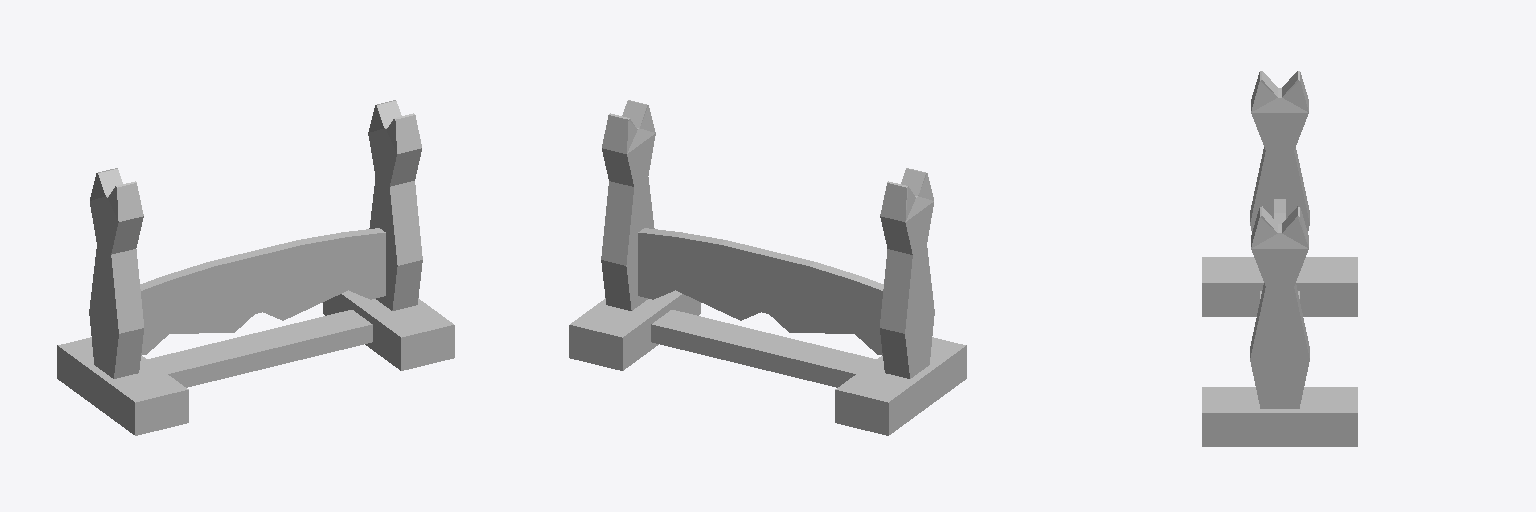
Rendered from stand_1.obj.
3 views of the same model, side by side, from view 1: azimuth 30°, elevation 25°; view 2: azimuth 150°, elevation 25°; view 3: azimuth 270°, elevation 25° (orthographic).
Parts seen in each view (by area): view 1: q_S_1; view 2: q_S_1; view 3: q_S_1.
Boxes of the visible parts, <box> form: q_S_1: <box>57,100,454,435</box>; q_S_1: <box>569,100,966,435</box>; q_S_1: <box>1202,71,1357,446</box>.
Bounding box in the file's own units: 0.7873 × 0.5313 × 0.3333.